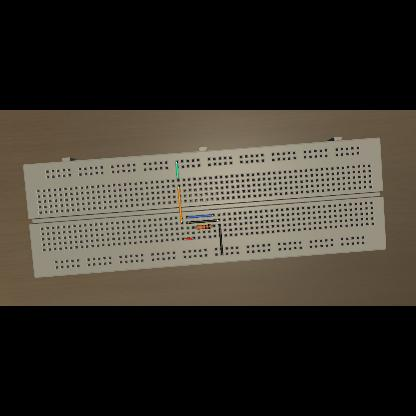breadboard: (24, 138, 387, 278)
resistor: (196, 224, 212, 230)
wire: (178, 186, 182, 224), (186, 220, 219, 224), (219, 225, 223, 255), (186, 214, 214, 218), (176, 161, 180, 181), (184, 237, 194, 240), (211, 225, 214, 226), (194, 228, 196, 229)
